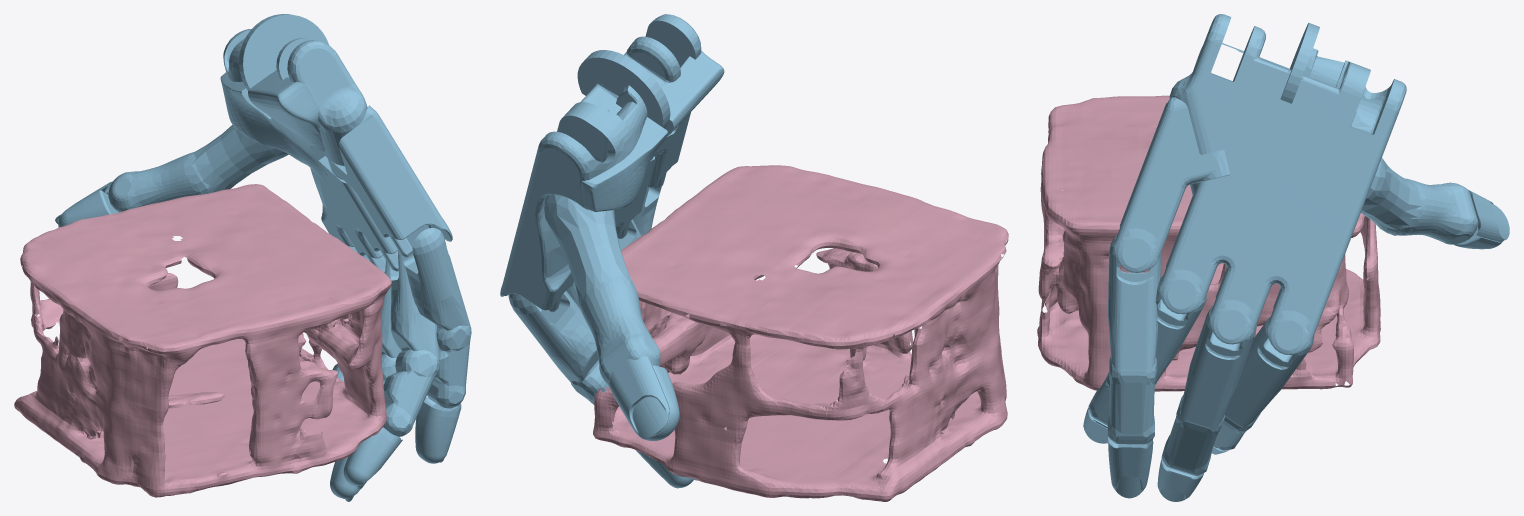
3 renders of one model, left to right at view 1: azimuth 30°, elevation 25°; view 2: azimuth 150°, elevation 25°; view 3: azimuth 270°, elevation 25°, orthographic. The views are drawn at different scales.
Visible parts, largest first — view 1: world, hand_isaac_q; view 2: world, hand_isaac_q; view 3: hand_isaac_q, world.
Boxes of the visible parts, x1,y1,x2,y2 form: world: (14,184,391,497); hand_isaac_q: (55,14,471,501); world: (593,165,1008,501); hand_isaac_q: (500,14,724,488); hand_isaac_q: (1083,14,1509,501); world: (1037,95,1380,391).
Size of the model in its own units: 0.1779 by 0.202 by 0.1808.
